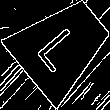L_NE: (34, 18, 91, 74)
